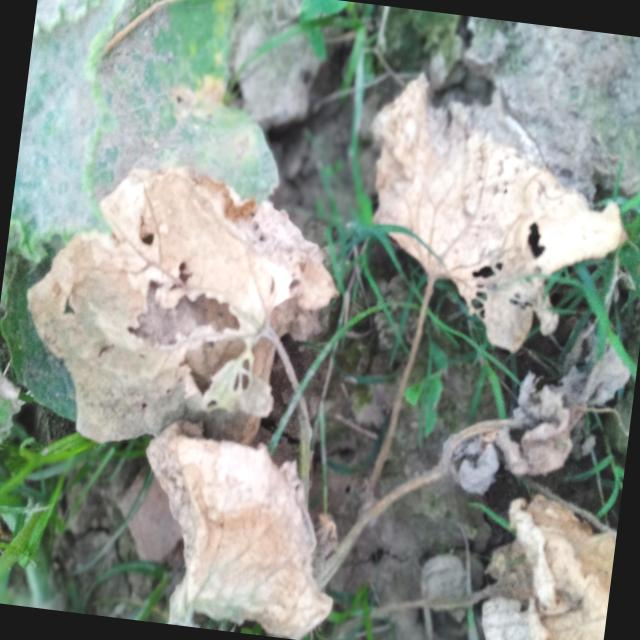cucumber_bacterial: (9, 140, 350, 463), (343, 69, 637, 344), (119, 426, 364, 634), (463, 441, 625, 640)
